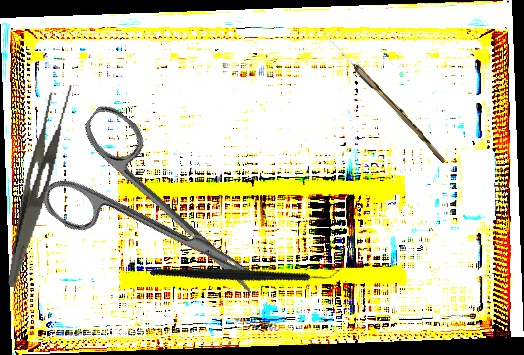Chopper: (149, 201, 343, 341)
Dressing Forceps: (5, 80, 76, 292)
Iris Scissors: (29, 99, 291, 340)
Surgical Spoon: (320, 30, 449, 164)
